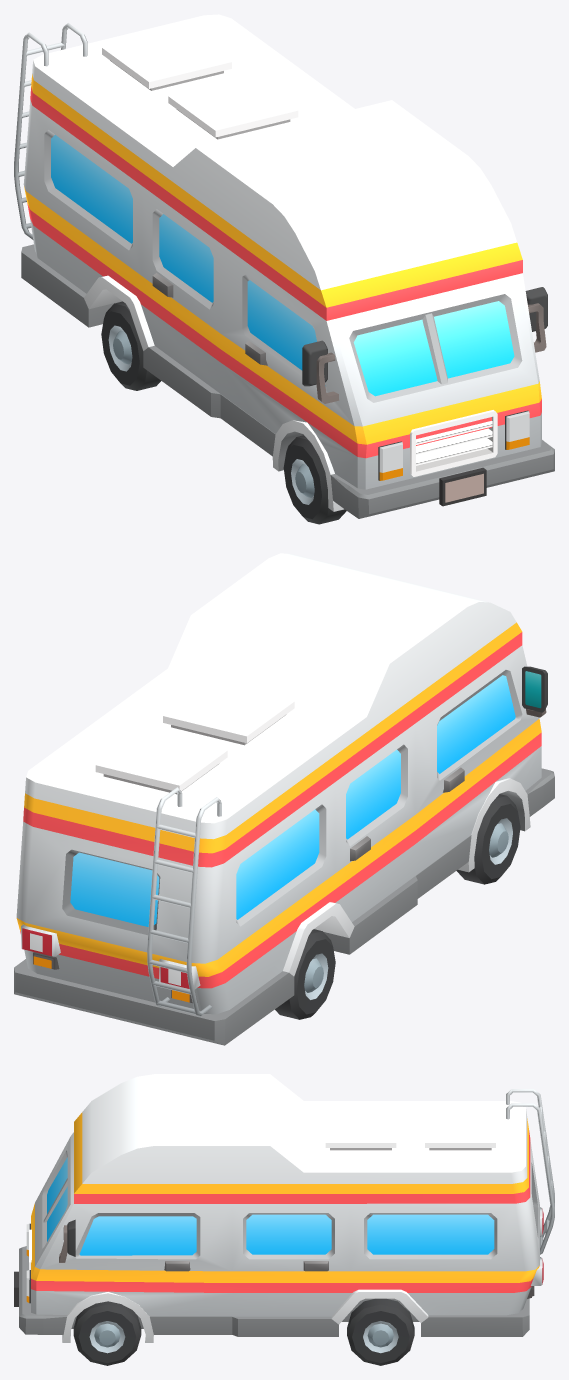
The model's file is Camp_Cargo_01.glb.
3 renders of one model, top to bottom at view 1: azimuth 30°, elevation 25°; view 2: azimuth 150°, elevation 25°; view 3: azimuth 270°, elevation 25°, orthographic. The views are drawn at different scales.
Visible parts, largest first — view 1: Camp_Cargo_01, Wheel_233, Wheel_234; view 2: Camp_Cargo_01, Wheel_233, Wheel_234; view 3: Camp_Cargo_01, Wheel_236, Wheel_235.
Boxes of the visible parts, box(x1,y1,x2,y2) form: Camp_Cargo_01: box(14, 14, 554, 518); Wheel_233: box(283, 435, 346, 524); Wheel_234: box(101, 301, 160, 390); Camp_Cargo_01: box(14, 553, 554, 1045); Wheel_233: box(456, 794, 520, 884); Wheel_234: box(275, 929, 335, 1019); Camp_Cargo_01: box(14, 1074, 554, 1342); Wheel_236: box(347, 1298, 414, 1365); Wheel_235: box(73, 1301, 141, 1365).
Size of the model in its own units: 2.47 by 2.88 by 6.37.
Materials: 2 (2 with a texture image).
